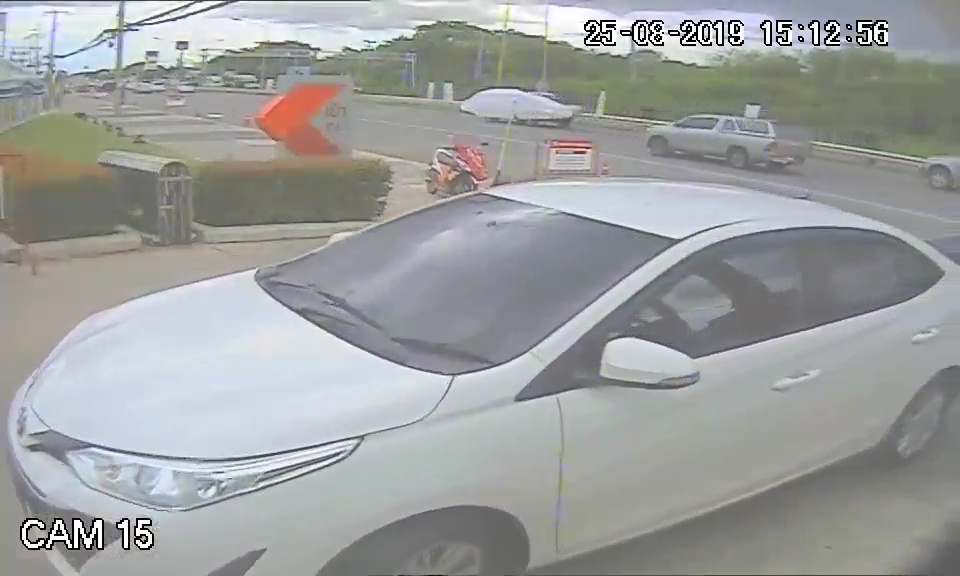sedan: (26, 171, 733, 563)
